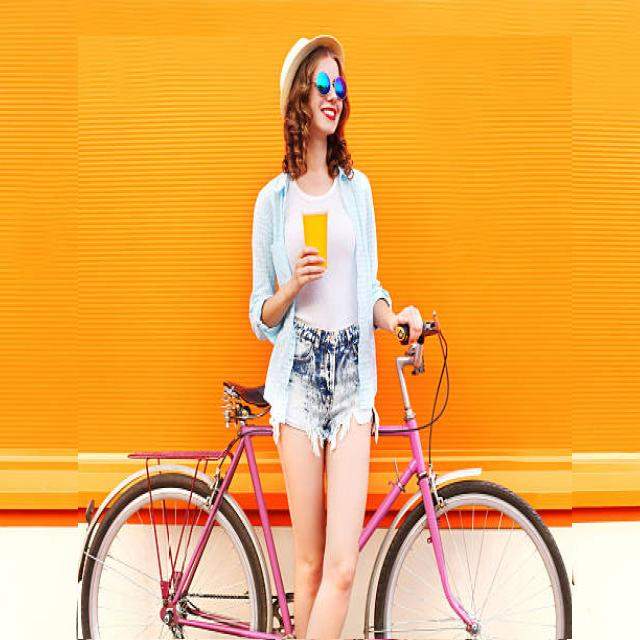bicycle: (78, 36, 572, 639)
